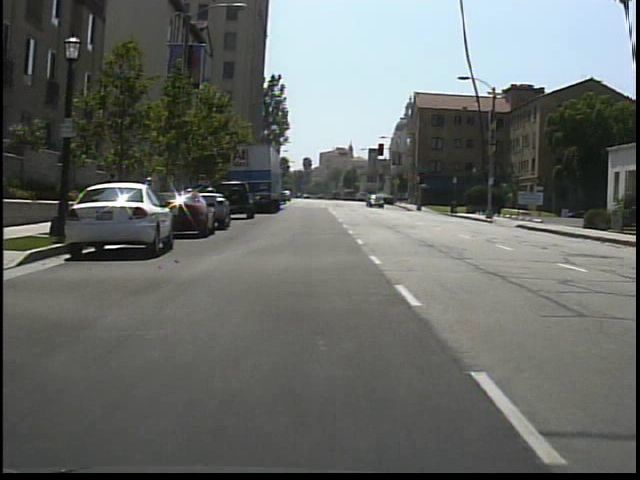person: (102, 168, 124, 220), (141, 172, 160, 219)
